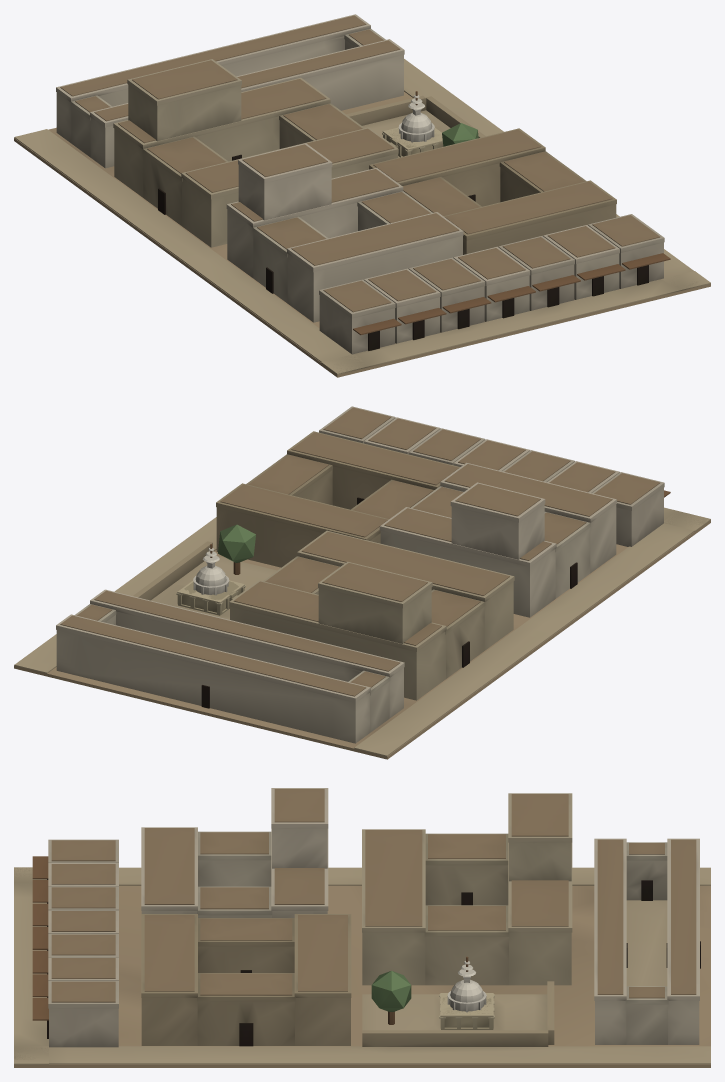
File: sirkap-block.glb
3 views of the same model, one above another, from view 1: azimuth 30°, elevation 25°; view 2: azimuth 150°, elevation 25°; view 3: azimuth 270°, elevation 25° (orthographic). The views are drawn at different scales.
Parts seen in each view (by area): view 1: p2_houses, p1_shops, p0_ground, p3_stupa court; view 2: p2_houses, p0_ground, p1_shops, p3_stupa court; view 3: p2_houses, p0_ground, p1_shops, p3_stupa court.
Boxes of the visible parts, box(x1,y1,x2,y2) form: p2_houses: box(56, 14, 616, 322); p1_shops: box(319, 214, 670, 354); p0_ground: box(14, 59, 710, 377); p3_stupa court: box(346, 91, 485, 157); p2_houses: box(56, 431, 616, 743); p0_ground: box(14, 507, 710, 759); p1_shops: box(319, 406, 670, 546); p3_stupa court: box(132, 524, 276, 619); p2_houses: box(141, 788, 700, 1046); p0_ground: box(14, 867, 710, 1067); p1_shops: box(32, 839, 118, 1047); p3_stupa court: box(362, 956, 554, 1046).
Size of the model in its own units: 40 by 10.3 by 60.
